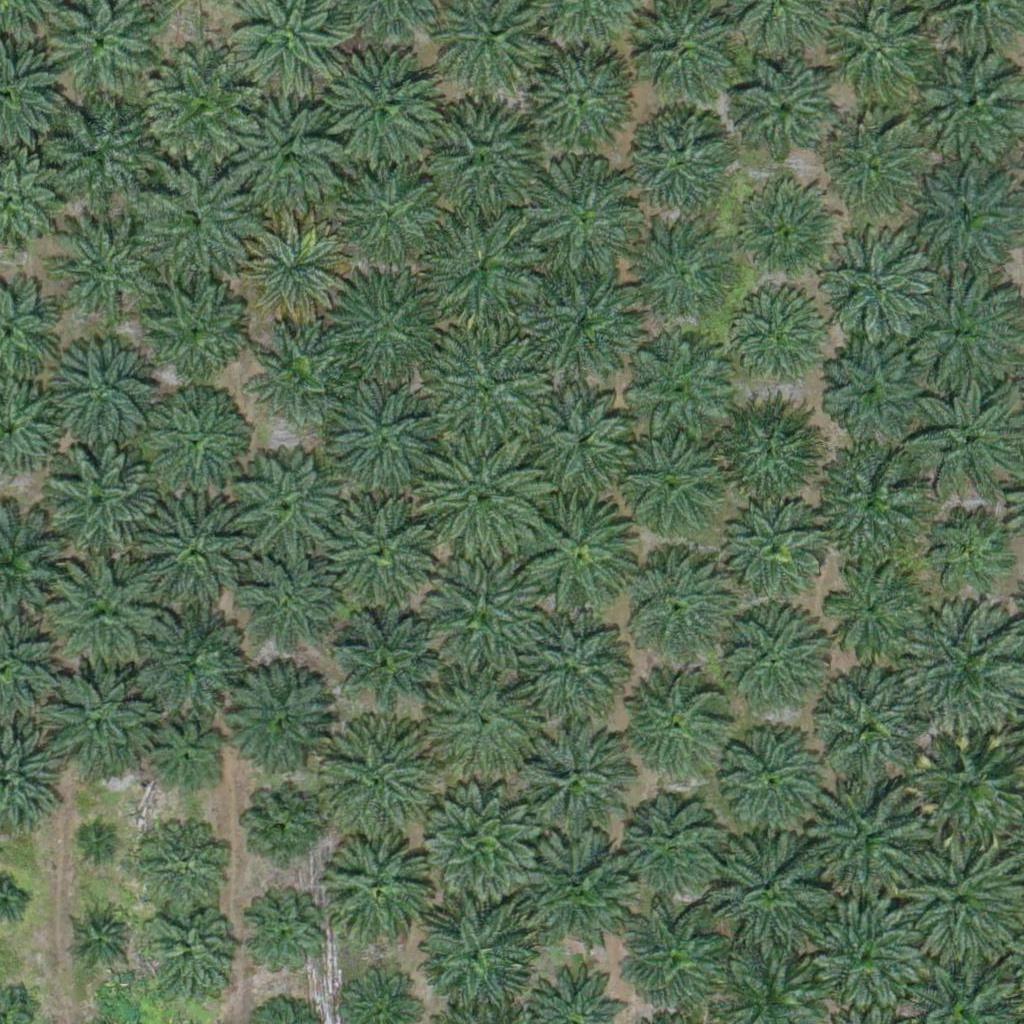Kelapa_Sawit: (806, 676, 931, 802), (897, 273, 1022, 399), (419, 208, 544, 334), (425, 327, 550, 453), (419, 430, 544, 555), (530, 45, 643, 159), (522, 160, 635, 274), (719, 828, 832, 941), (618, 549, 731, 662), (617, 894, 730, 1007), (527, 499, 640, 612), (517, 604, 630, 717), (514, 722, 627, 835), (317, 828, 430, 941), (220, 668, 333, 781), (138, 496, 251, 609), (124, 597, 237, 710), (910, 154, 1023, 267), (819, 230, 932, 343), (613, 426, 726, 539), (527, 385, 640, 498), (529, 266, 642, 379), (422, 104, 535, 217), (323, 49, 436, 162), (40, 97, 153, 210), (144, 50, 257, 163), (238, 215, 351, 328), (235, 448, 348, 561), (140, 168, 253, 281), (136, 273, 249, 386), (38, 657, 150, 771), (808, 440, 920, 554), (713, 391, 825, 505), (619, 327, 731, 441), (813, 781, 925, 894), (812, 896, 924, 1009), (720, 712, 832, 825), (716, 599, 828, 712), (523, 826, 635, 939), (426, 553, 538, 666), (424, 662, 536, 775), (422, 781, 534, 894), (418, 896, 530, 1009), (320, 718, 432, 831), (49, 555, 161, 668), (335, 159, 447, 272), (325, 268, 437, 381), (325, 379, 437, 492), (324, 491, 436, 604), (231, 99, 343, 212), (48, 213, 160, 326), (44, 445, 156, 558), (631, 668, 731, 769), (622, 792, 722, 893), (334, 615, 434, 716), (824, 116, 924, 217), (732, 56, 832, 157), (146, 393, 246, 494), (53, 338, 153, 439), (822, 557, 922, 657), (725, 498, 825, 598), (627, 110, 727, 210), (827, 338, 927, 438), (732, 182, 832, 282), (728, 289, 828, 389), (633, 221, 733, 321), (138, 818, 226, 906), (146, 912, 234, 1000), (256, 330, 343, 419), (243, 562, 330, 650), (246, 788, 321, 864), (929, 507, 1004, 583), (248, 903, 323, 979), (144, 721, 219, 797), (75, 911, 125, 961), (83, 822, 121, 860)
